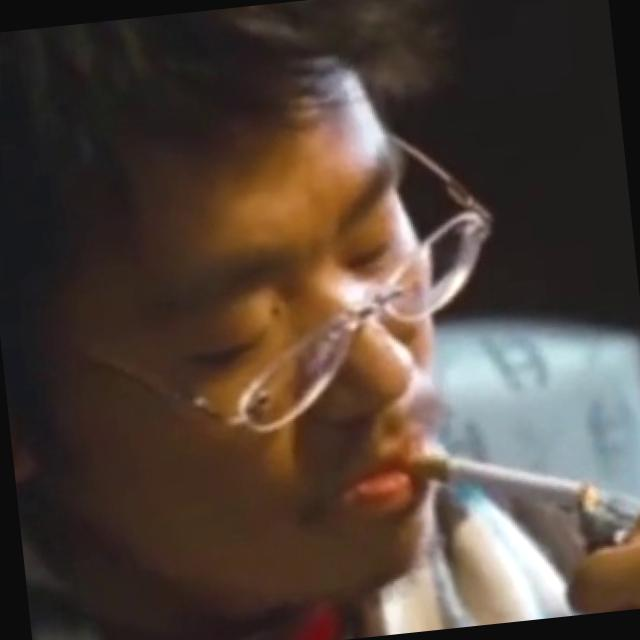smoke: (392, 421, 606, 541)
